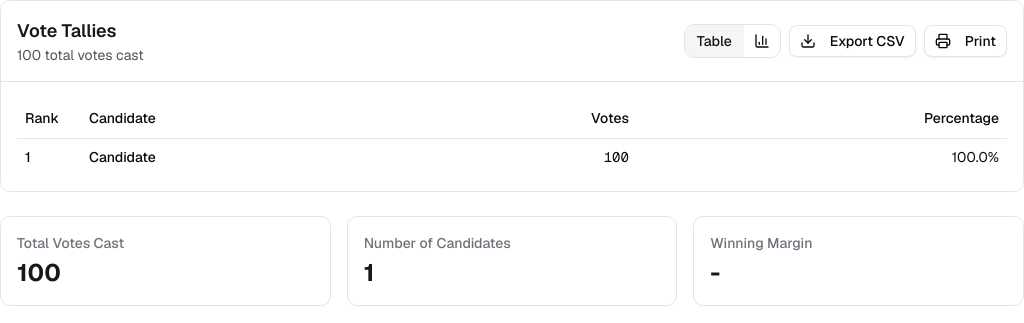
Test: ResultsDisplay › view toggle functionality › should toggle from chart back to table view
Click the button named "Show results as chart": (762,41) x1=744 y1=25 x2=780 y2=57
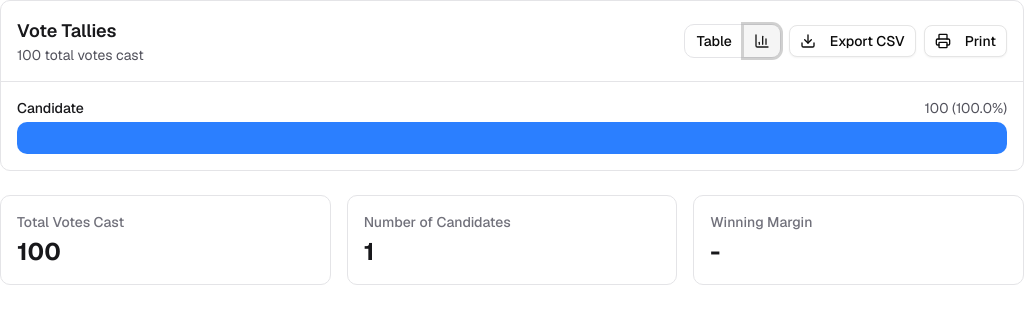
Click the button "Table": (714,41) x1=685 y1=25 x2=744 y2=57
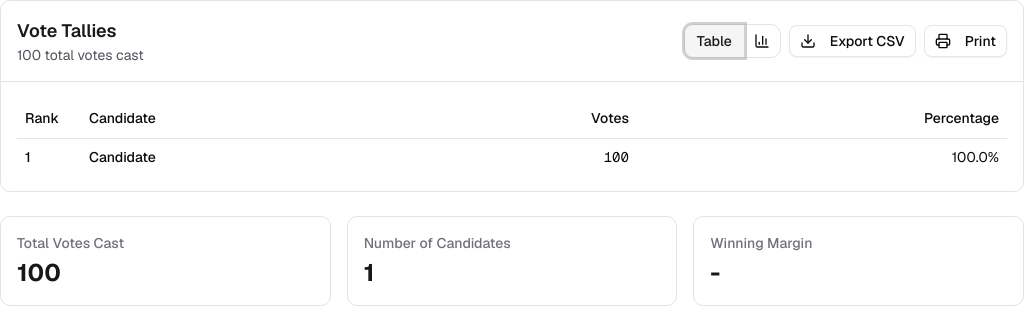
Expected: the table is shown, x1=17 y1=98 x2=1007 y2=174
